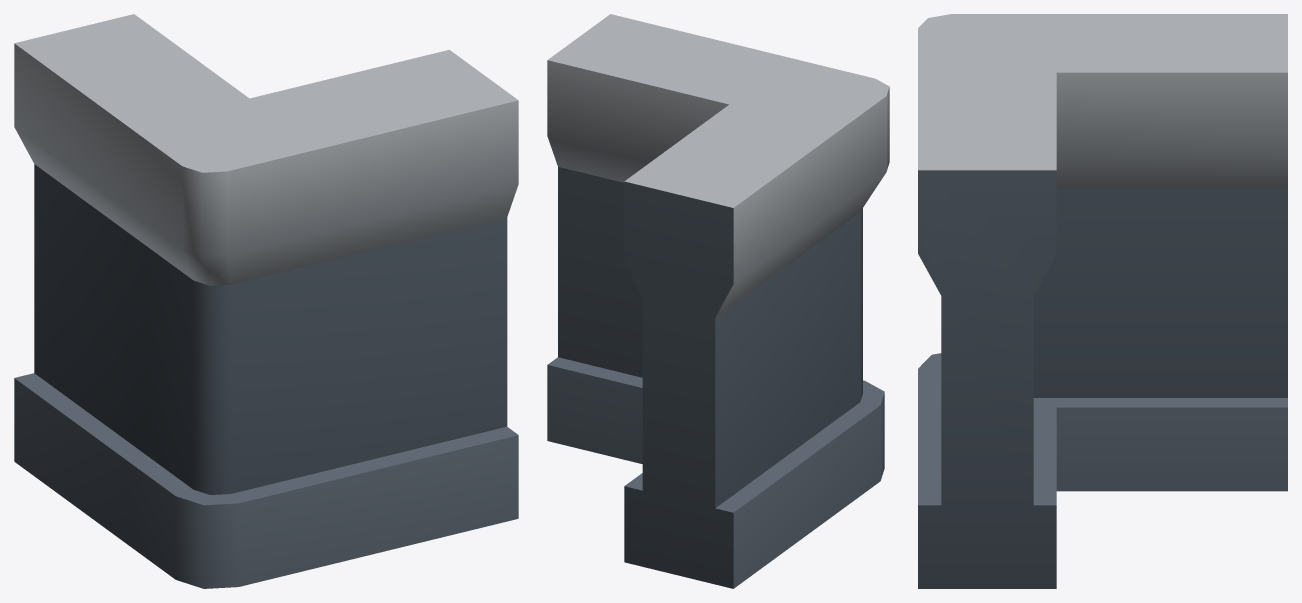
Rendered from wall-corner.glb.
The picture shows the model from 3 angles, left to right: view 1: azimuth 30°, elevation 25°; view 2: azimuth 150°, elevation 25°; view 3: azimuth 270°, elevation 25°; orthographic projection. The views are drawn at different scales.
Visible parts, largest first — view 1: wall-corner; view 2: wall-corner; view 3: wall-corner.
Part boxes in pixels (x1,y1,x2,y2): wall-corner: (14,14,518,588); wall-corner: (547,14,889,588); wall-corner: (918,14,1287,588).
Size of the model in its own units: 0.8 by 1 by 0.8.
